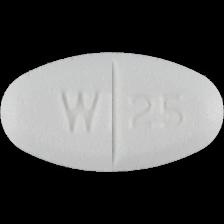50268-220: (0, 0, 224, 224)
